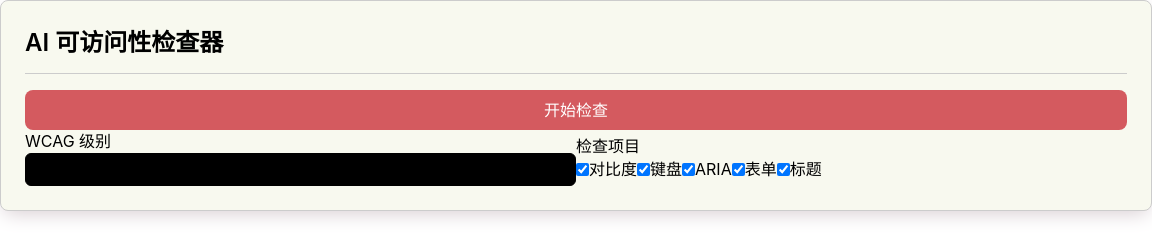
Test: AIAccessibilityChecker › 应该允许启用/禁用检查项目
Click the checkbox labelled "对比度" at point(582, 169), box [576, 163, 589, 176]
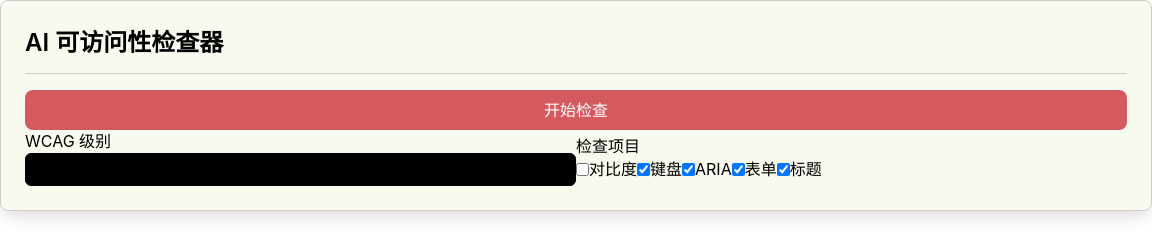
Now the checkbox labelled "对比度" is not checked, box [576, 163, 589, 176]
Click the checkbox labelled "键盘" at point(644, 169), box [637, 163, 650, 176]
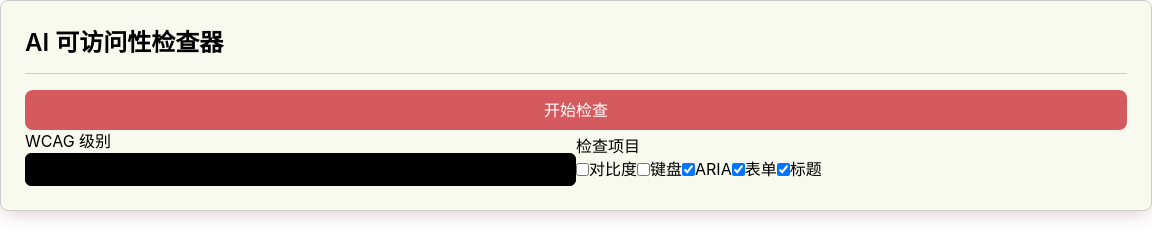
Now the checkbox labelled "键盘" is not checked, box [637, 163, 650, 176]
Click the checkbox labelled "ARIA" at point(688, 169), box [682, 163, 695, 176]
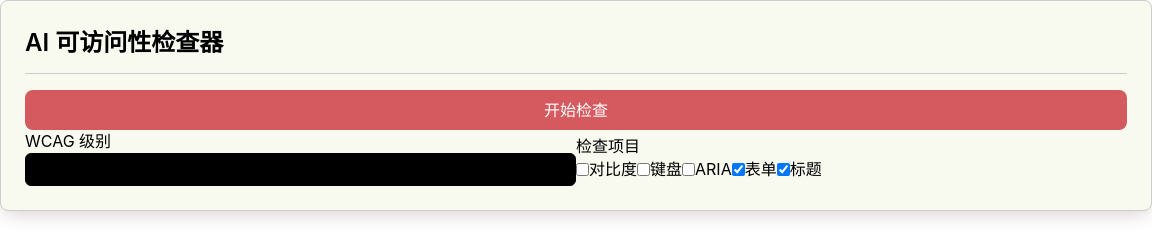
Now the checkbox labelled "ARIA" is not checked, box [682, 163, 695, 176]
Click the checkbox labelled "表单" at point(738, 169), box [732, 163, 745, 176]
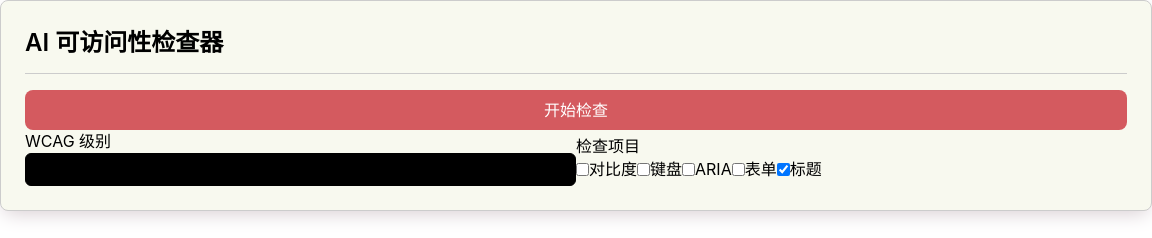
Now the checkbox labelled "表单" is not checked, box [732, 163, 745, 176]
Click the checkbox labelled "标题" at point(783, 169), box [777, 163, 790, 176]
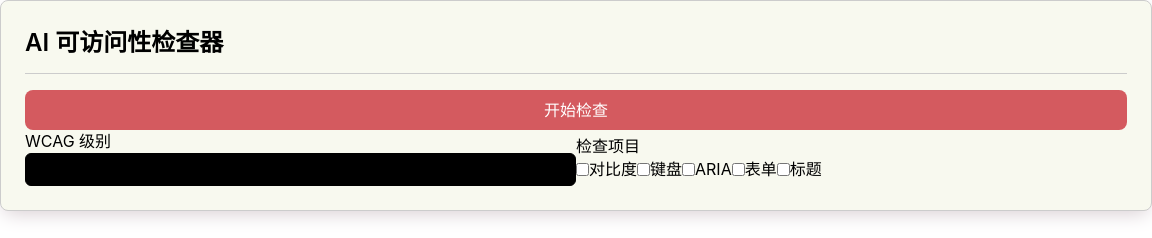
Now the checkbox labelled "标题" is not checked, box [777, 163, 790, 176]
